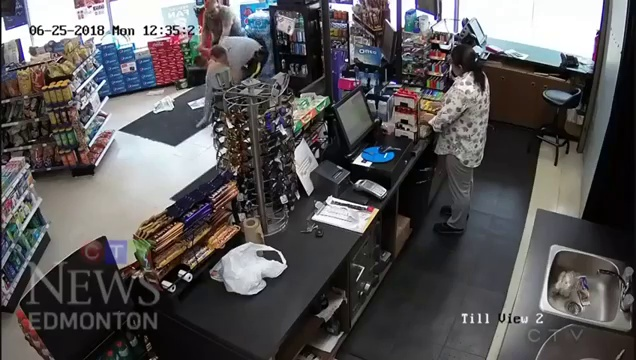face: (205, 2, 222, 20)
